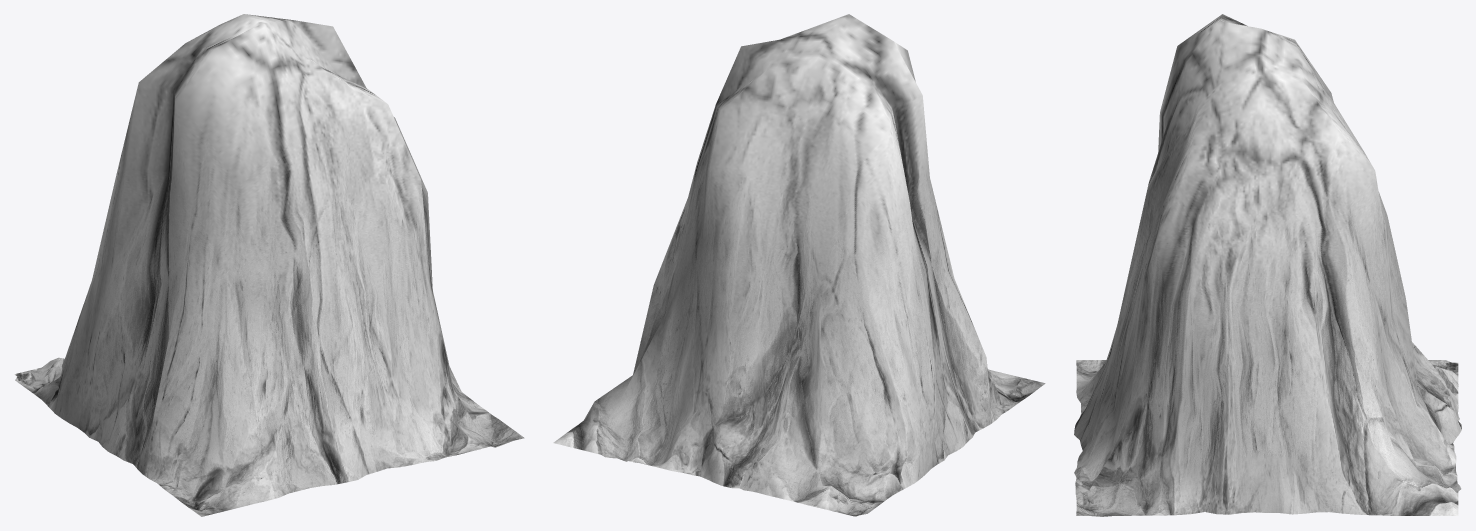
The model's file is BigRock-3.fbx.
The picture shows the model from 3 angles, left to right: view 1: azimuth 30°, elevation 25°; view 2: azimuth 150°, elevation 25°; view 3: azimuth 270°, elevation 25°; orthographic projection. The views are drawn at different scales.
Visible parts, largest first — view 1: Plane.001; view 2: Plane.001; view 3: Plane.001.
Part boxes in pixels (bbox=[...]): Plane.001: bbox=[14, 14, 524, 516]; Plane.001: bbox=[553, 14, 1045, 516]; Plane.001: bbox=[1074, 14, 1461, 516].
Bounding box in the file's own units: 1253 × 1522 × 1299.
